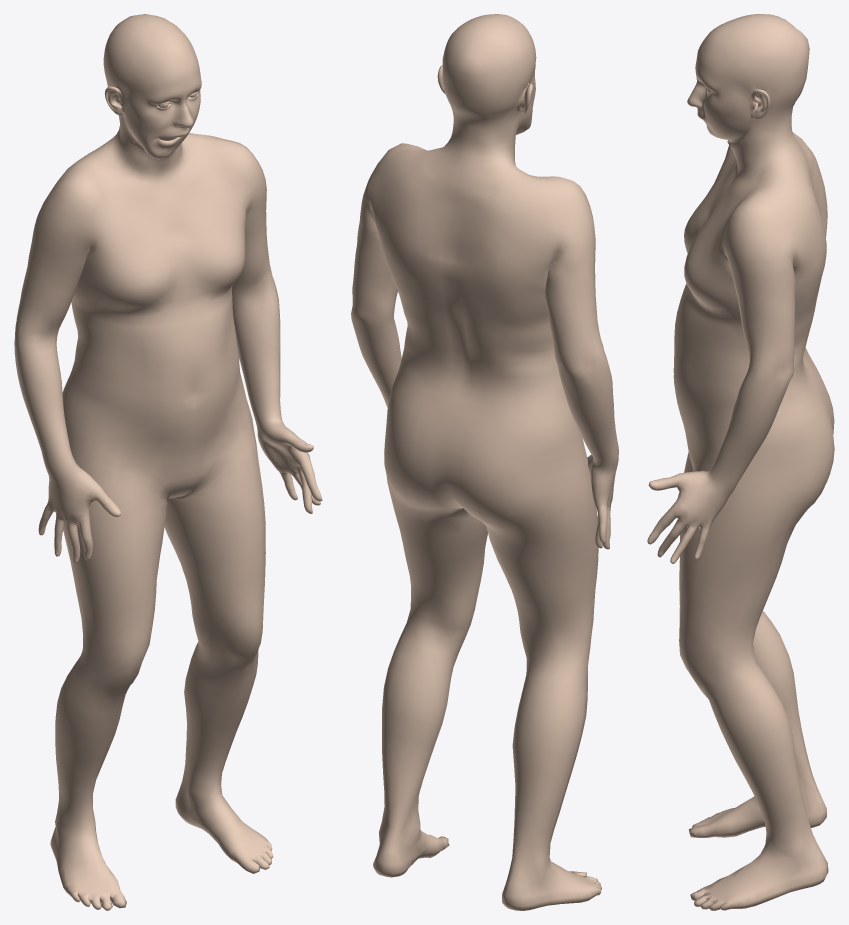
Rendered from WORD-01381.glb.
3 views of the same model, side by side, from view 1: azimuth 30°, elevation 25°; view 2: azimuth 150°, elevation 25°; view 3: azimuth 270°, elevation 25° (orthographic). The views are drawn at different scales.
Size of the model in its own units: 0.5345 by 1.71 by 0.3434.
